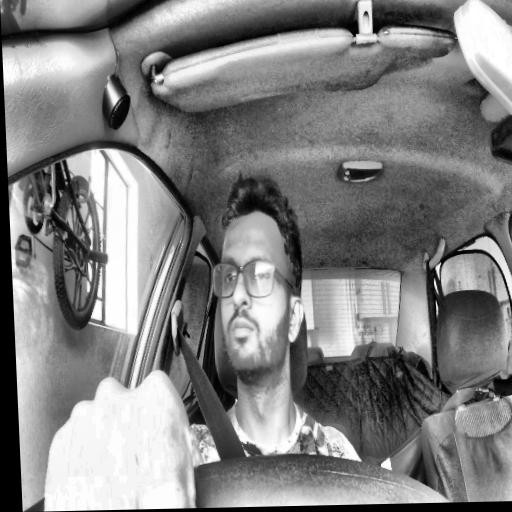awake: (206, 173, 308, 389)
